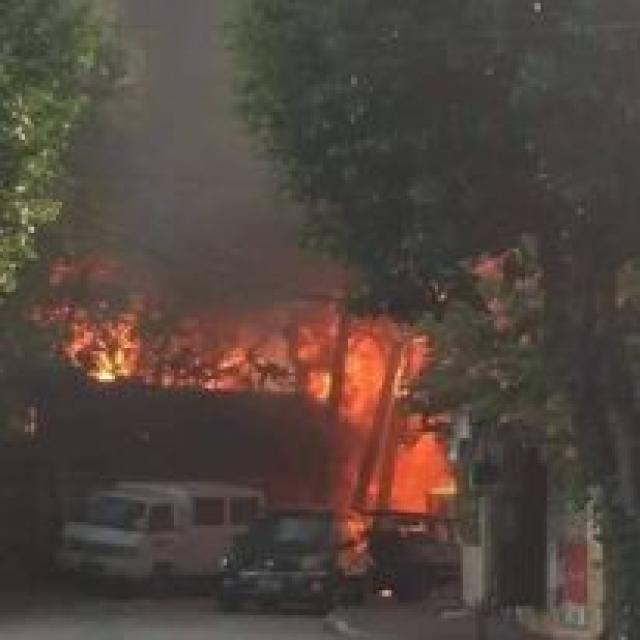Fire: (96, 25, 354, 326), (62, 290, 380, 382), (340, 321, 440, 521)
